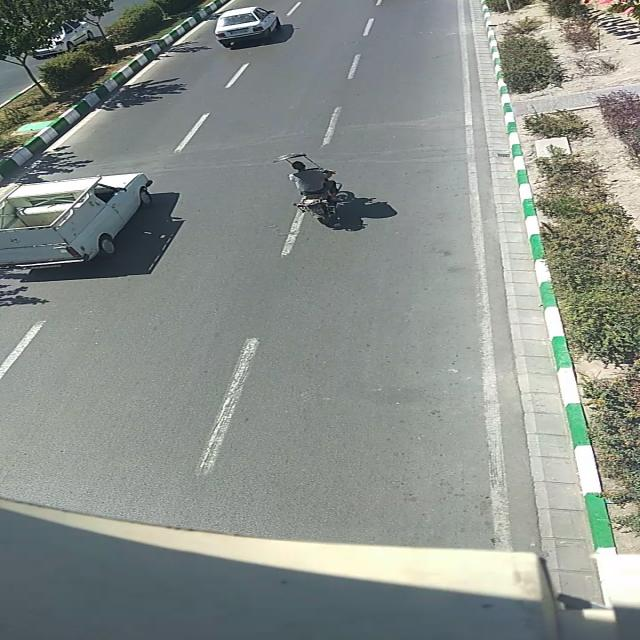car: (0, 172, 159, 271), (216, 7, 280, 47), (28, 18, 92, 58)
motor: (282, 152, 352, 228)
